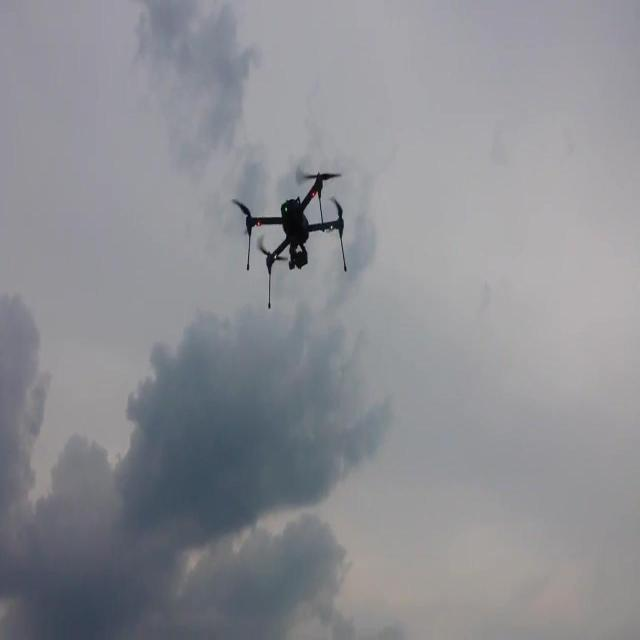drone: (230, 168, 354, 310)
